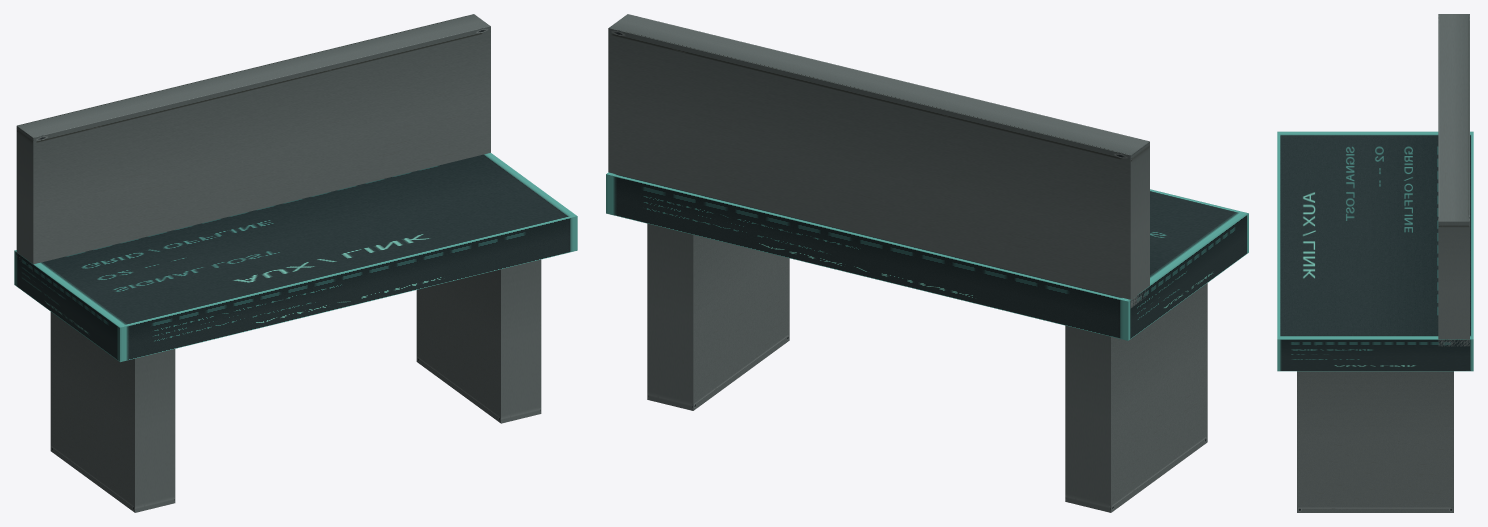
The model's file is workbench_LOD3.obj.
The picture shows the model from 3 angles, left to right: view 1: azimuth 30°, elevation 25°; view 2: azimuth 150°, elevation 25°; view 3: azimuth 270°, elevation 25°; orthographic projection. The views are drawn at different scales.
Visible parts, largest first — view 1: L02_workbench_LOD3; view 2: L02_workbench_LOD3; view 3: L02_workbench_LOD3.
Boxes of the visible parts, box(x1,y1,x2,y2) form: L02_workbench_LOD3: box(14, 14, 577, 512); L02_workbench_LOD3: box(606, 14, 1248, 512); L02_workbench_LOD3: box(1277, 14, 1473, 512).
Bounding box in the file's own units: 2.5 × 1.7 × 1.
1 material, 1 textured.
